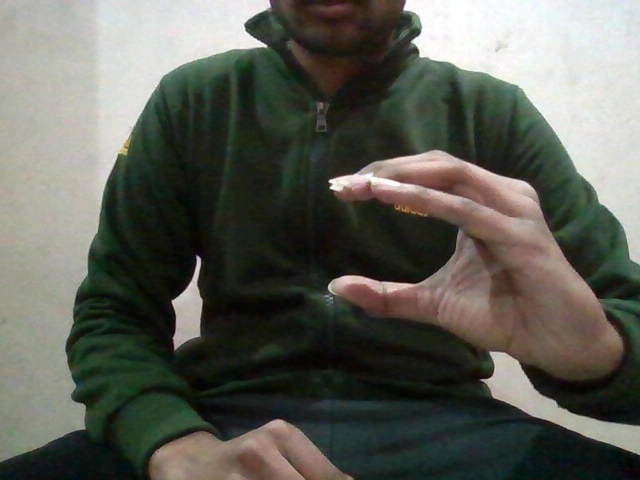C: (318, 149, 597, 356)
